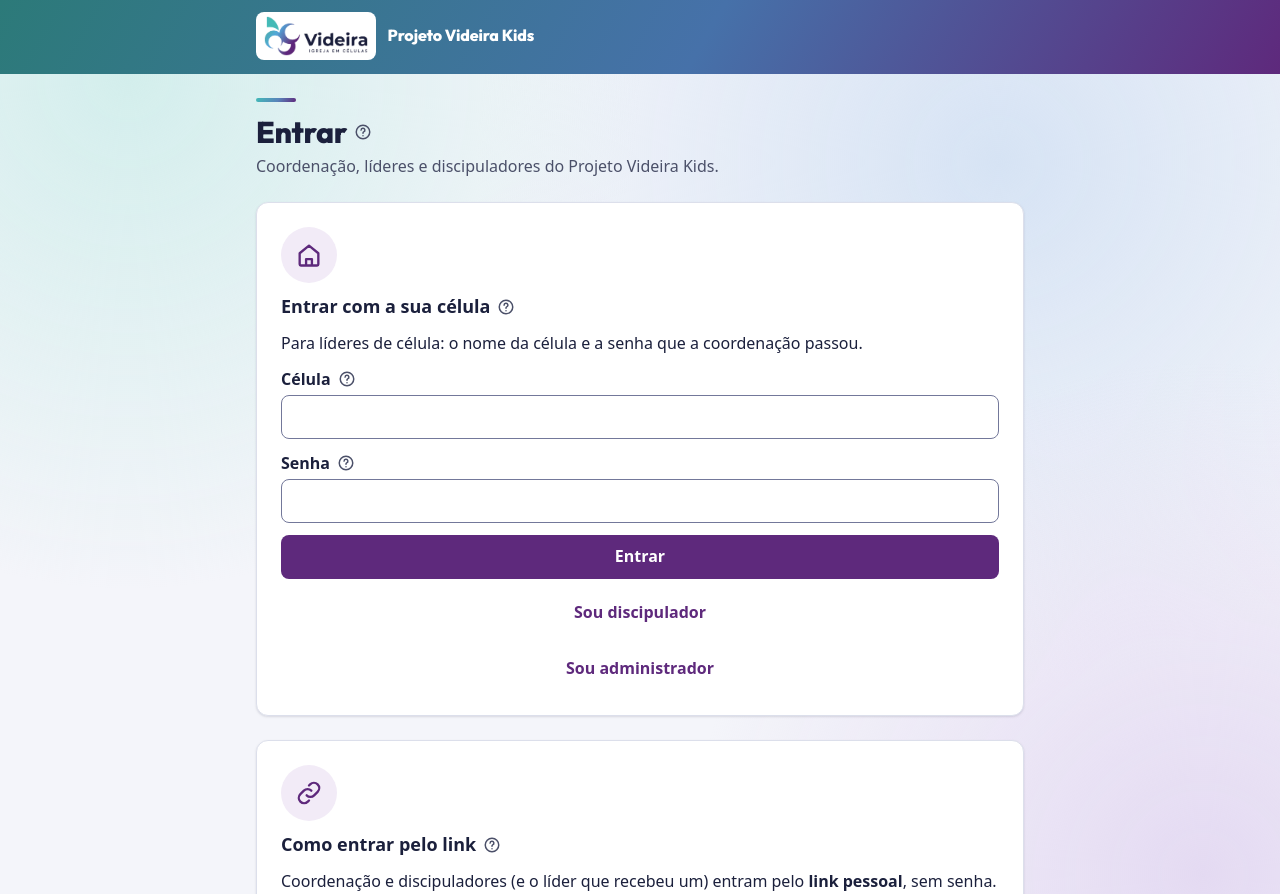
Test: RIFA-073: Sou administrador em /entrar › 401: a recusa genérica (não diz se o usuário existe); 429: espere um minuto
Click the button "Sou administrador".
click(640, 669)  # box [281, 647, 999, 691]
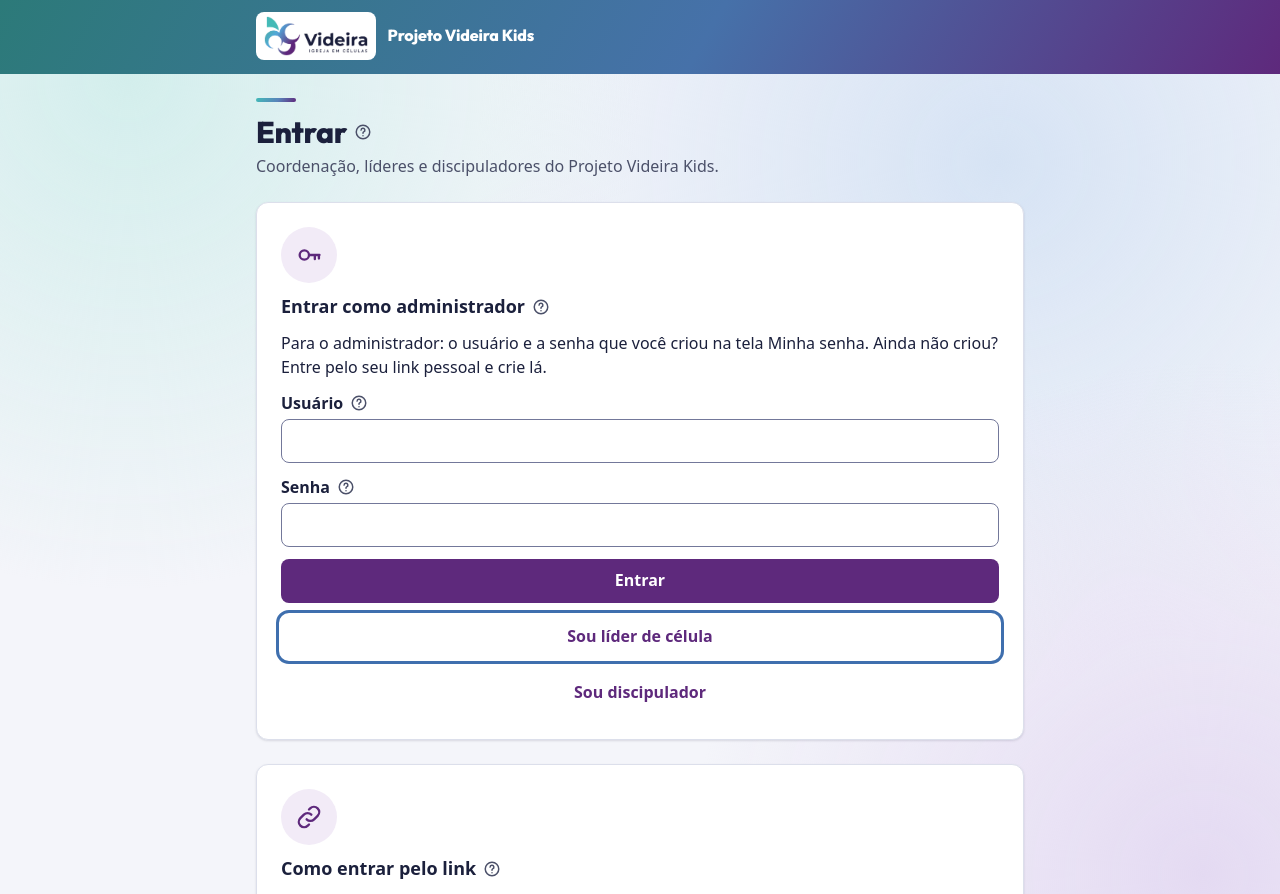
Type "pastor.teste" into the field labelled "Usuário".
click(640, 441); type("pastor.teste")  # box [281, 419, 999, 463]
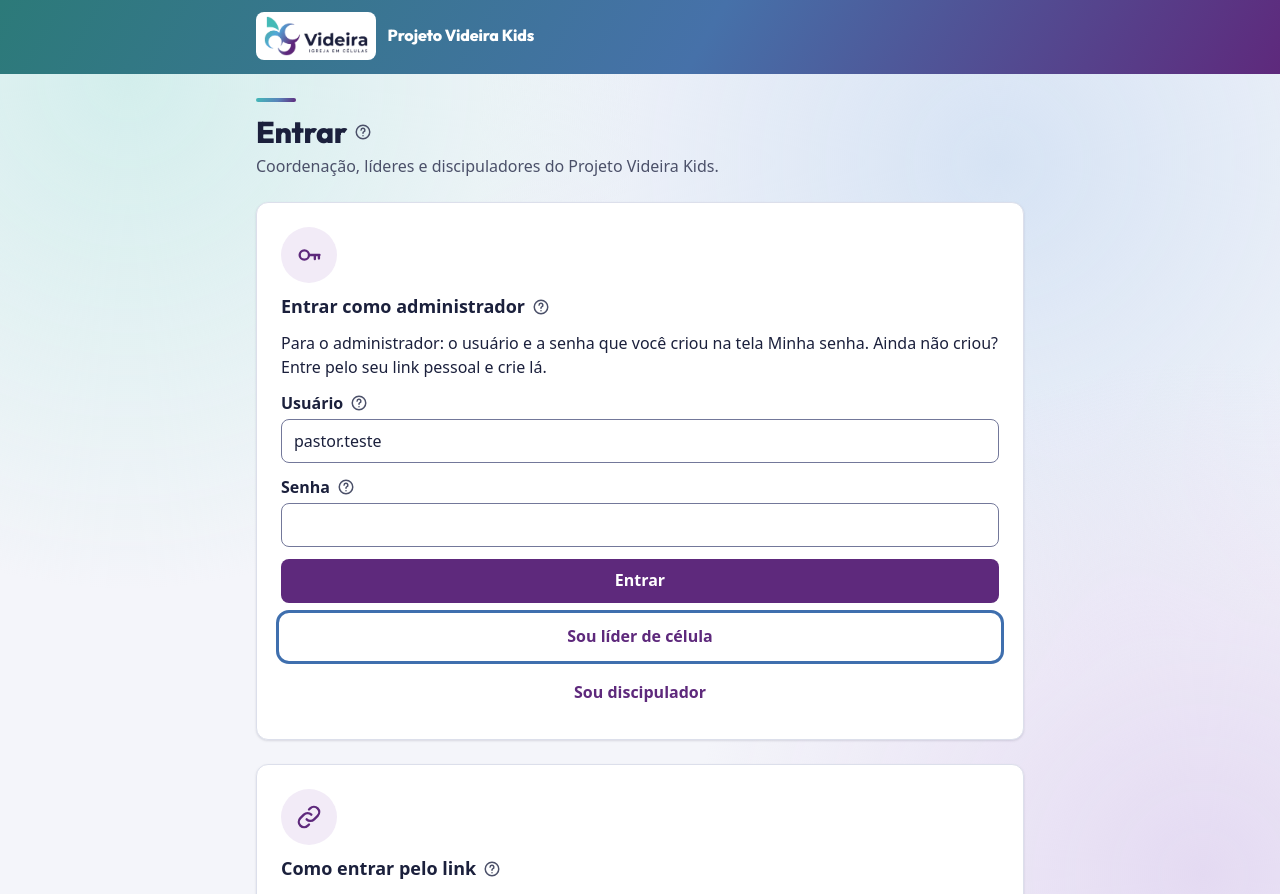
Type "senha errada" into the password field labelled "Senha".
click(640, 525); type("senha errada")  # box [281, 503, 999, 547]
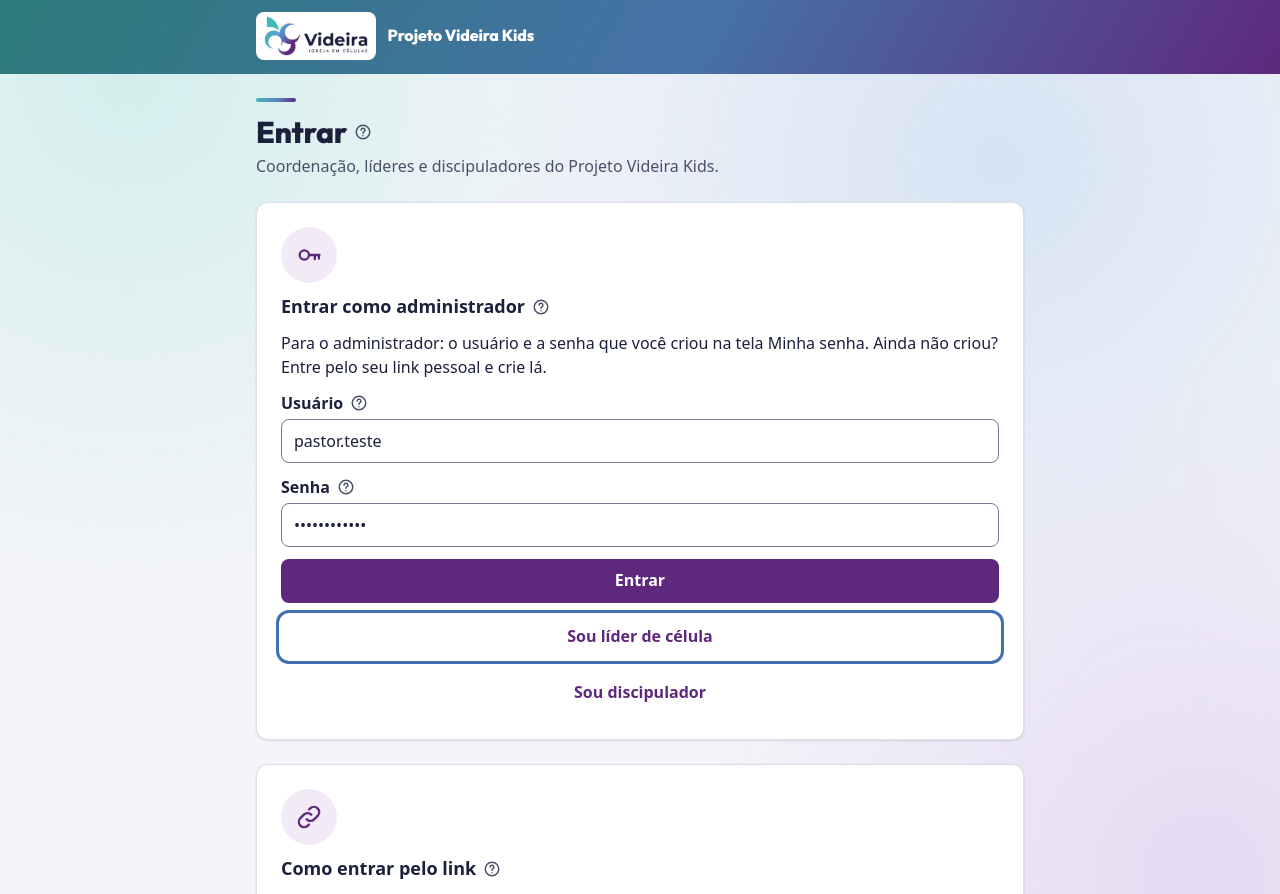
Click the button "Entrar".
click(640, 581)  # box [281, 559, 999, 603]
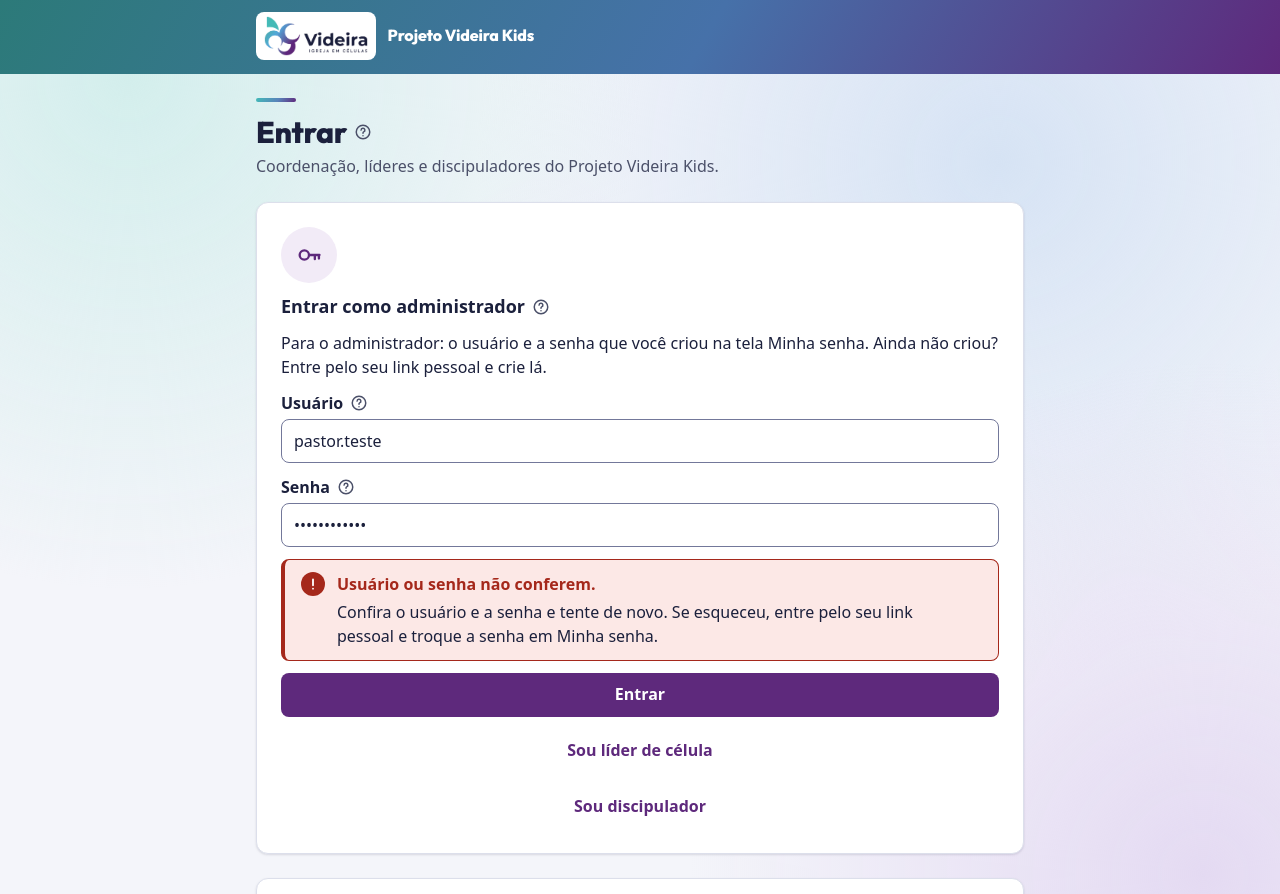
Expected: the text "Usuário ou senha não conferem." is shown, [337, 573, 596, 595]
Click the button "Entrar".
click(640, 695)  # box [281, 673, 999, 717]
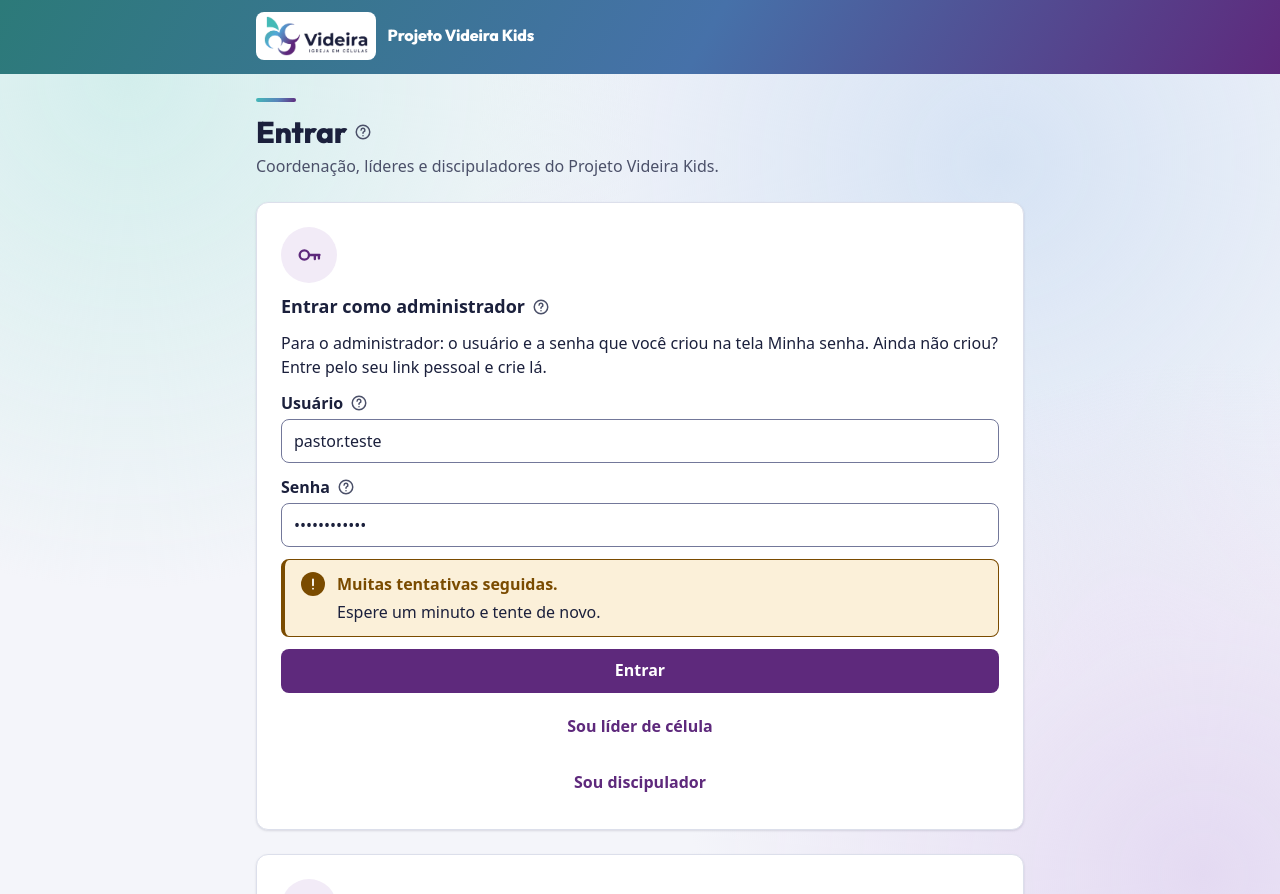
Expected: the text "Muitas tentativas seguidas." is shown, [337, 573, 558, 595]
